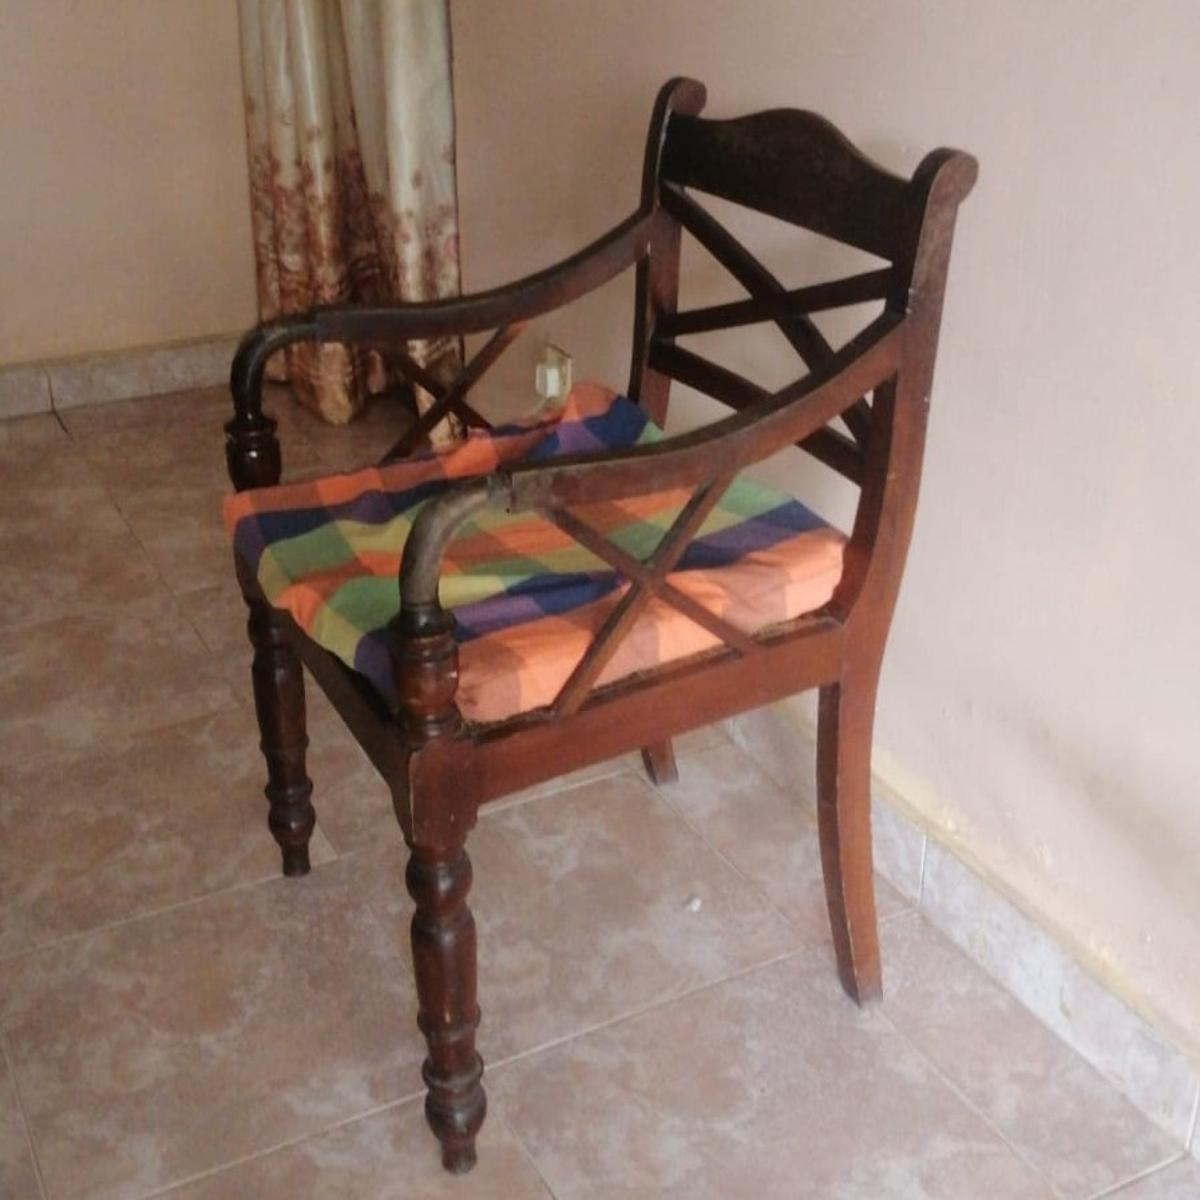Chair: (227, 76, 977, 1176)
